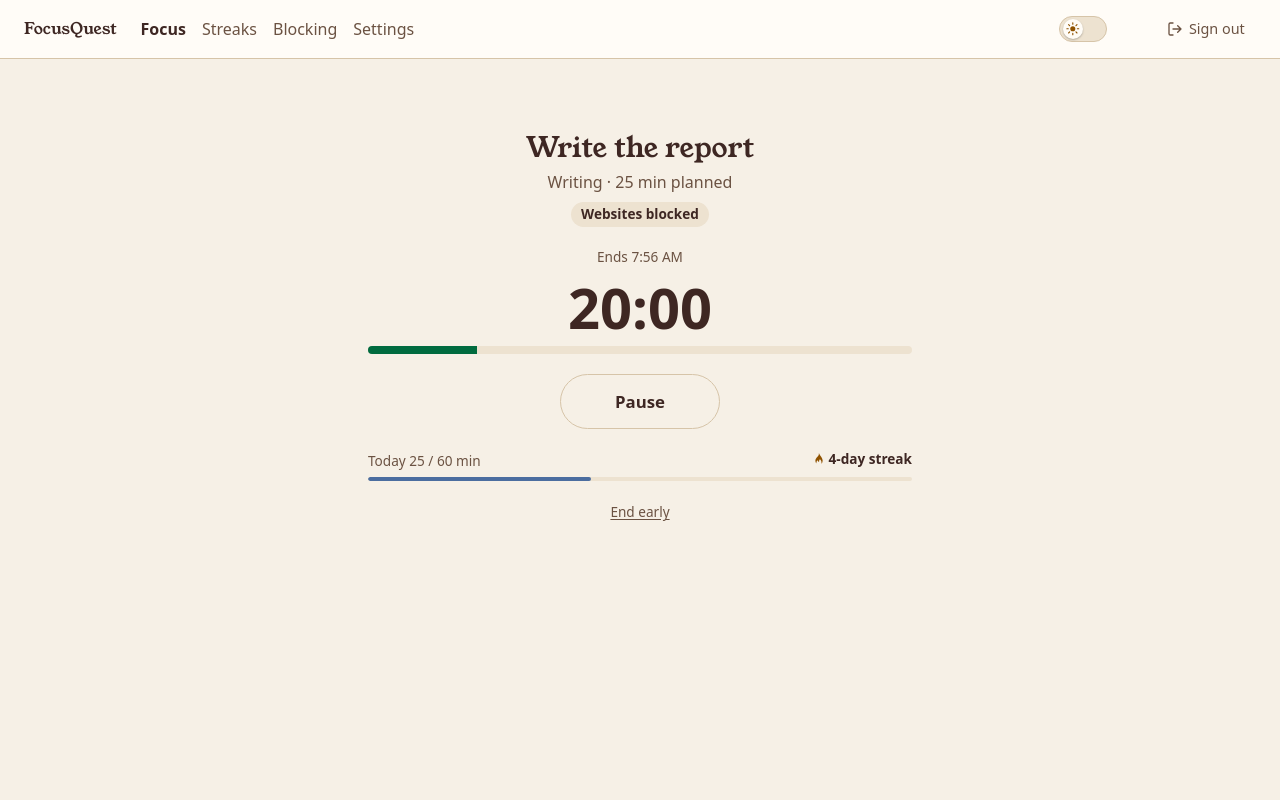
Scenario: DashboardView › works out, before ending early, what the session keeps and whether websites unblock
Click the button "End early".
click(640, 513)  # box [609,502,671,524]
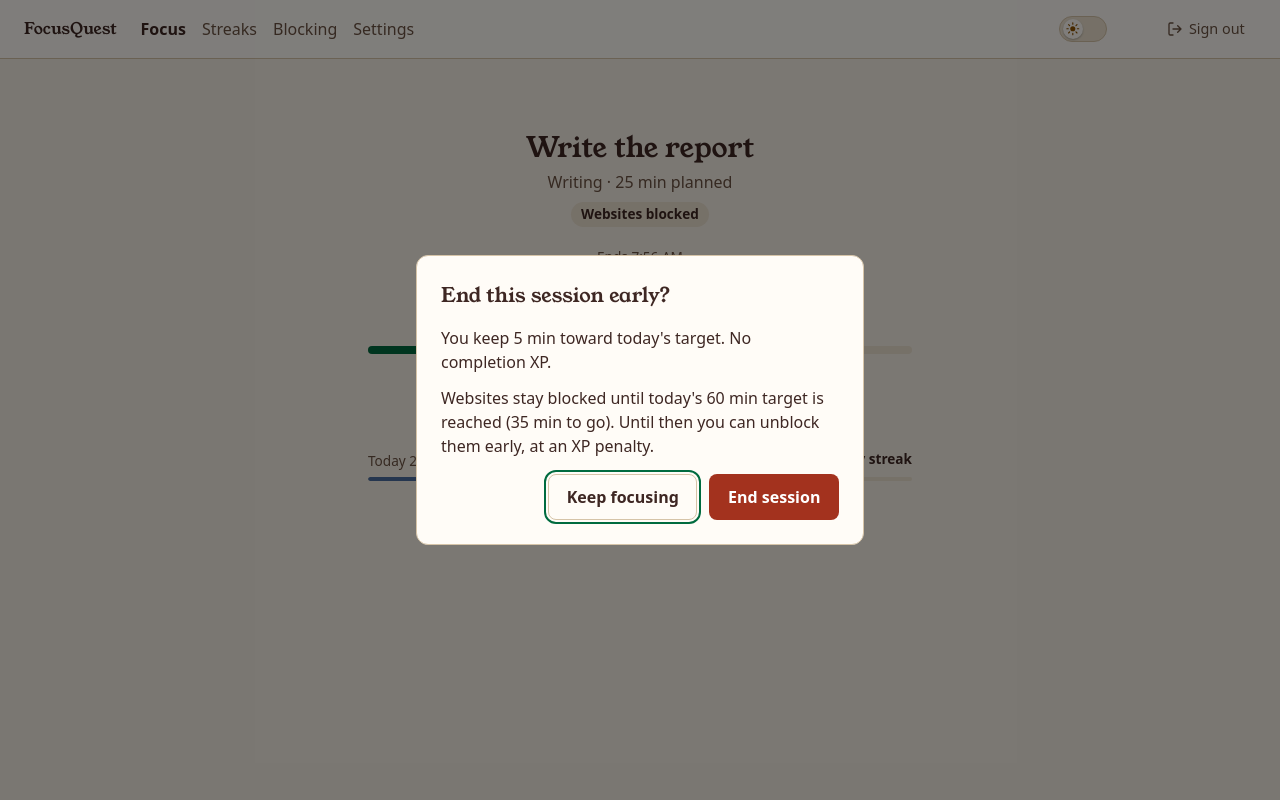
Expected: the text "You keep 5 min toward today's target. No completion XP." is shown, [441,327,751,373]
Expected: the text "Websites stay blocked until today's 60 min target is reached (35 min to go)." is shown, [441,387,824,457]
